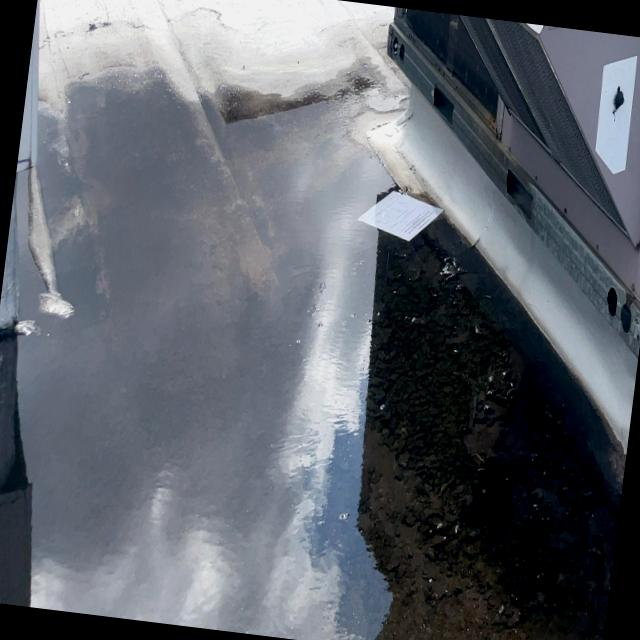RTU: (343, 5, 640, 359)
